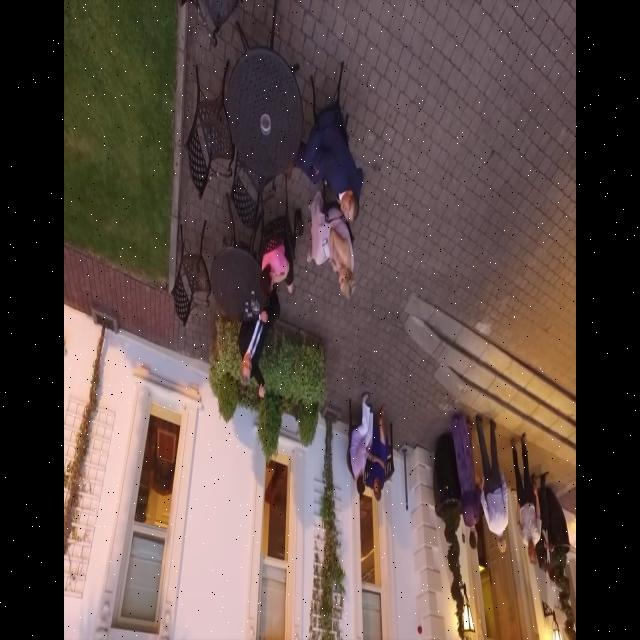humans: (293, 104, 364, 229), (451, 411, 484, 558), (304, 215, 357, 305), (478, 414, 511, 556), (509, 435, 543, 564), (235, 314, 272, 404), (348, 393, 372, 496), (258, 246, 298, 304), (369, 413, 391, 505), (540, 532, 554, 585)
